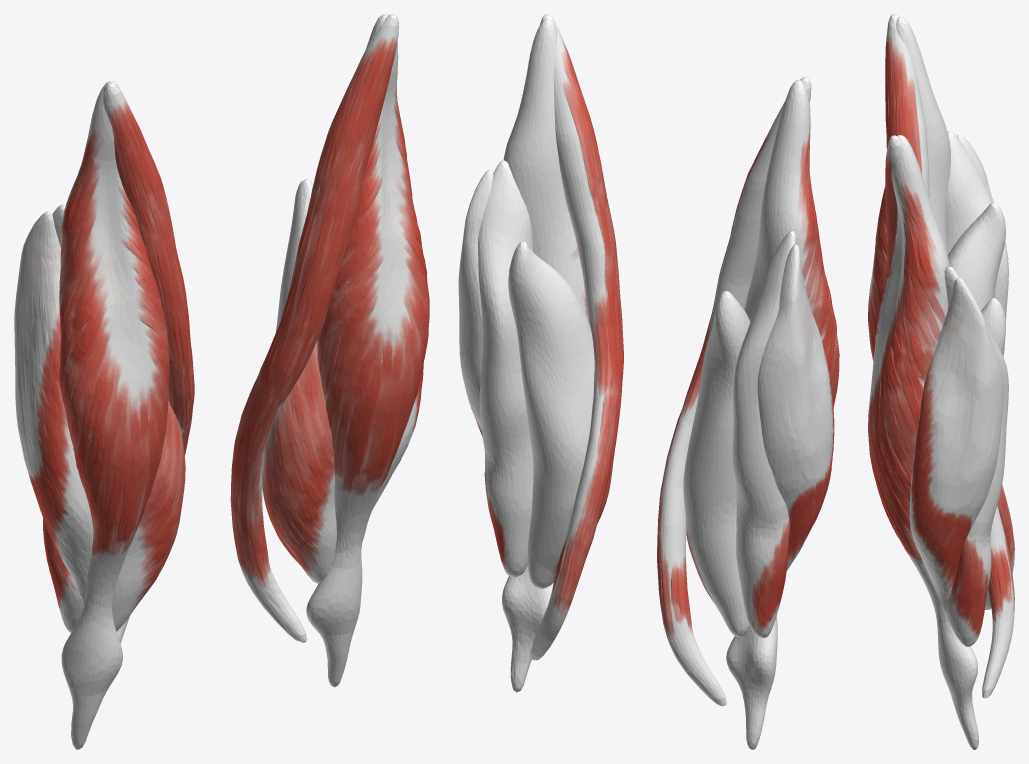
File: SubTool-11-6787078.OBJ
3 renders of one model, left to right at view 1: azimuth 30°, elevation 25°; view 2: azimuth 150°, elevation 25°; view 3: azimuth 270°, elevation 25°, orthographic. The views are drawn at different scales.
Parts seen in each view (by area): view 1: Group21577; view 2: Group21577; view 3: Group21577.
Part boxes in pixels (left/top/right/bottom): Group21577: left=14, top=14, right=429, bottom=749; Group21577: left=458, top=14, right=839, bottom=749; Group21577: left=868, top=14, right=1014, bottom=749.
Bounding box in the file's own units: 13.06 × 22.64 × 4.86.
1 material, 1 textured.
